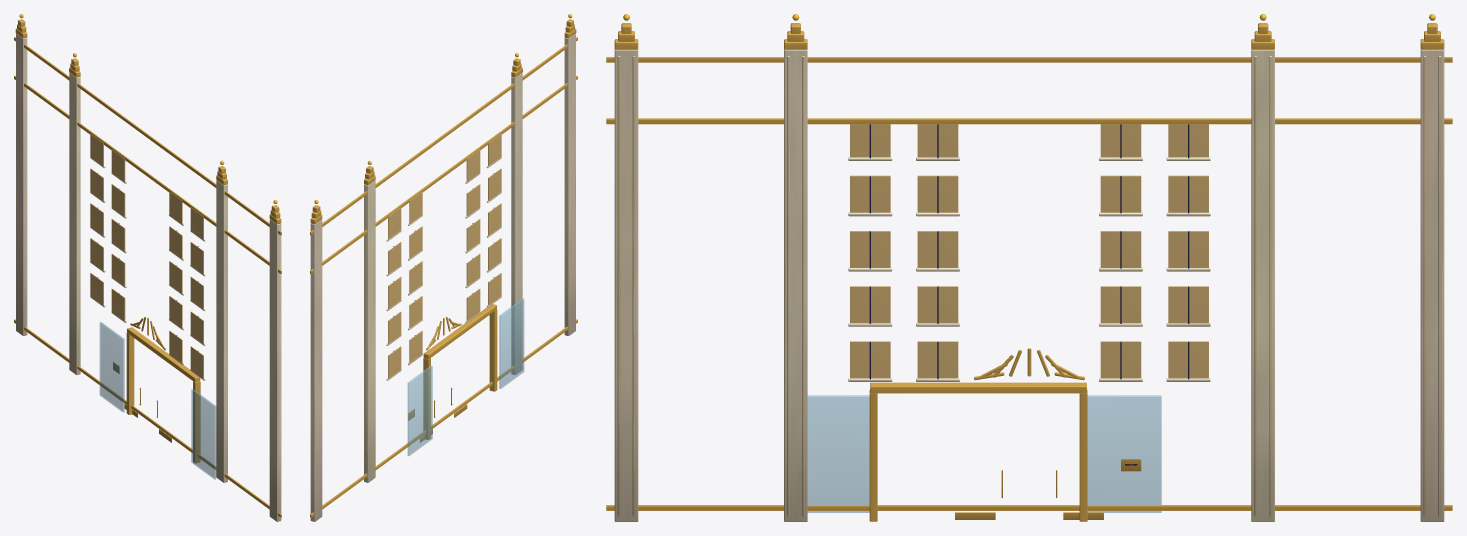
Rendered from SM_Cinema_FacadeDressing.fbx.
The picture shows the model from 3 angles, left to right: view 1: azimuth 30°, elevation 25°; view 2: azimuth 150°, elevation 25°; view 3: azimuth 270°, elevation 25°; orthographic projection. The views are drawn at different scales.
Parts seen in each view (by area): view 1: SM_Cinema_FacadeDressing; view 2: SM_Cinema_FacadeDressing; view 3: SM_Cinema_FacadeDressing.
Boxes of the visible parts, box(x1,y1,x2,y2) form: SM_Cinema_FacadeDressing: box(14, 14, 281, 521); SM_Cinema_FacadeDressing: box(310, 14, 577, 521); SM_Cinema_FacadeDressing: box(606, 14, 1452, 521).
Bounding box in the file's own units: 57.21 × 1650 × 2500.
